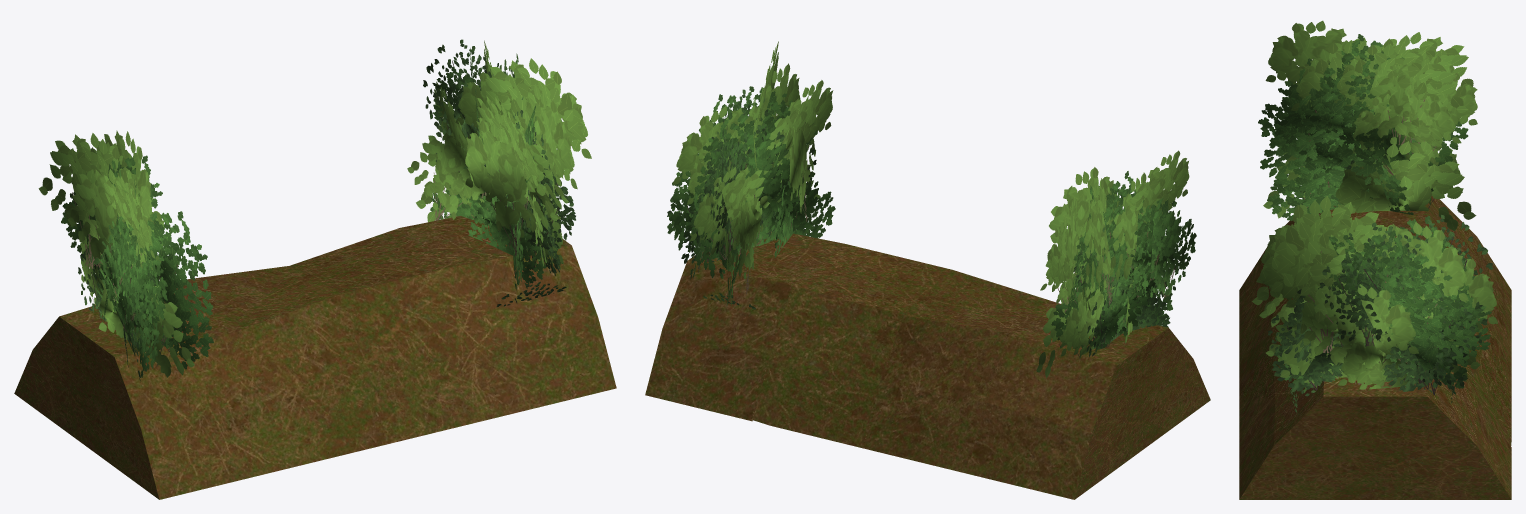
The model's file is hack_bocage_oppning_a.glb.
3 views of the same model, side by side, from view 1: azimuth 30°, elevation 25°; view 2: azimuth 150°, elevation 25°; view 3: azimuth 270°, elevation 25° (orthographic). The views are drawn at different scales.
Visible parts, largest first — view 1: hack_bocage_oppning_a; view 2: hack_bocage_oppning_a; view 3: hack_bocage_oppning_a.
Part boxes in pixels (bbox=[...]): hack_bocage_oppning_a: bbox=[14, 39, 616, 499]; hack_bocage_oppning_a: bbox=[645, 41, 1210, 499]; hack_bocage_oppning_a: bbox=[1239, 20, 1511, 499].
Bounding box in the file's own units: 4 × 2.6 × 2.2.
Materials: 1 (1 with a texture image).
